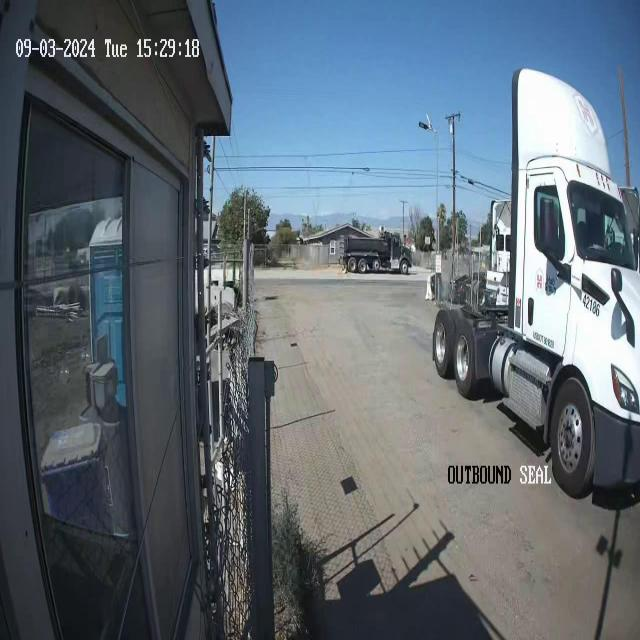BOBTAIL: (431, 66, 639, 506)
